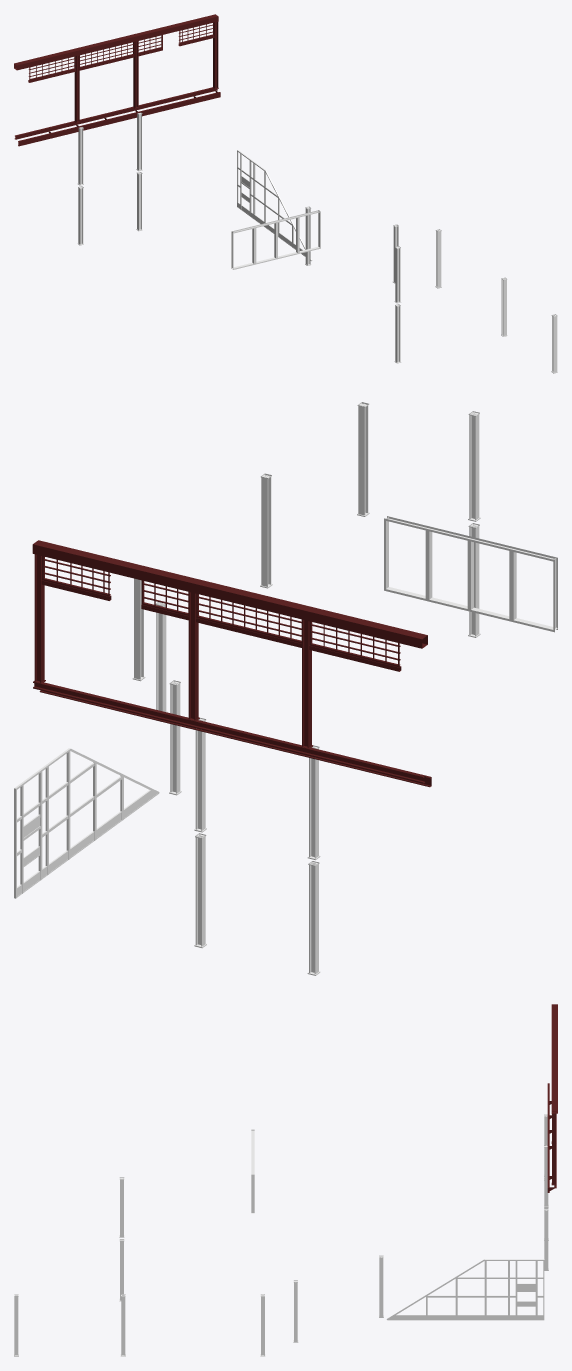
The model's file is SM_H_Building_Tide_Jail_B_01d_ATLAS.fbx.
The picture shows the model from 3 angles, top to bottom: view 1: azimuth 30°, elevation 25°; view 2: azimuth 150°, elevation 25°; view 3: azimuth 270°, elevation 25°; orthographic projection. The views are drawn at different scales.
Parts seen in each view (by area): view 1: SM_H_Building_Tide_Jail_B_01d_ATLAS; view 2: SM_H_Building_Tide_Jail_B_01d_ATLAS; view 3: SM_H_Building_Tide_Jail_B_01d_ATLAS.
Part boxes in pixels (left/top/right/bottom): SM_H_Building_Tide_Jail_B_01d_ATLAS: left=14, top=14, right=557, bottom=373; SM_H_Building_Tide_Jail_B_01d_ATLAS: left=14, top=402, right=557, bottom=975; SM_H_Building_Tide_Jail_B_01d_ATLAS: left=14, top=1004, right=557, bottom=1356.
Bounding box in the file's own units: 2668 × 4116 × 1700.
